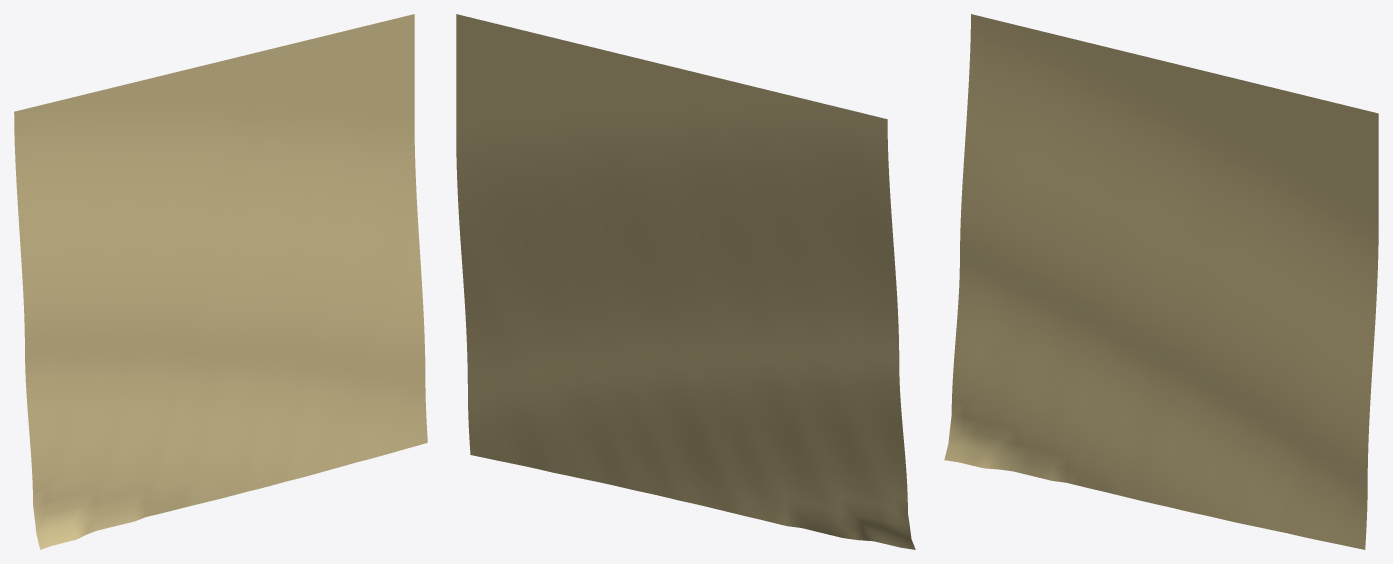
The model's file is island_terrain_34_07.obj.
3 views of the same model, side by side, from view 1: azimuth 30°, elevation 25°; view 2: azimuth 150°, elevation 25°; view 3: azimuth 330°, elevation 25° (orthographic). The views are drawn at different scales.
Parts seen in each view (by area): view 1: island_terrain_34_07; view 2: island_terrain_34_07; view 3: island_terrain_34_07.
Part boxes in pixels (x1=…): island_terrain_34_07: x1=14, y1=14, x2=427, y2=549; island_terrain_34_07: x1=456, y1=14, x2=915, y2=549; island_terrain_34_07: x1=944, y1=14, x2=1378, y2=549.
Size of the model in its own units: 256 by 256 by 29.02.
